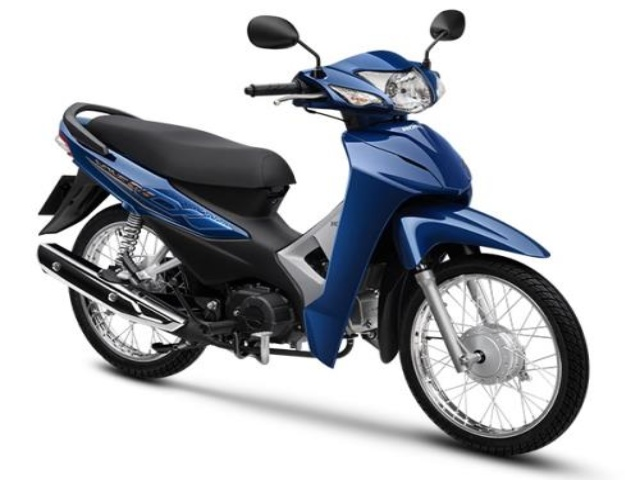Xe_may: (31, 5, 592, 457)
